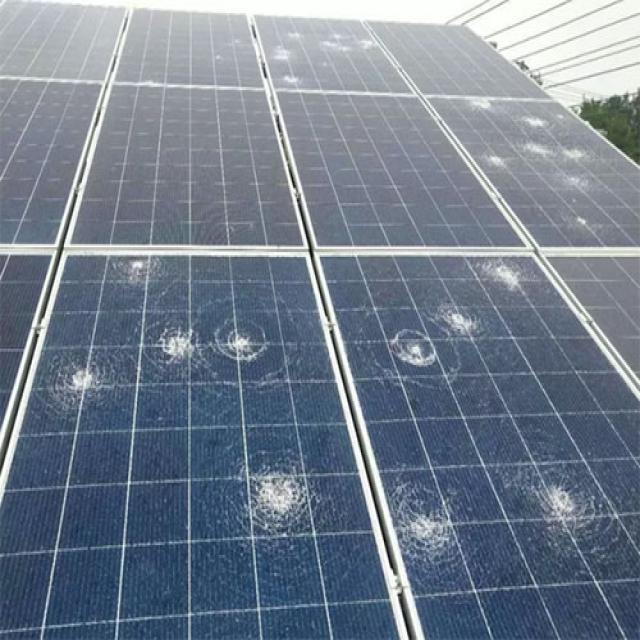physical damage: (41, 244, 309, 416), (356, 257, 581, 381), (397, 469, 616, 585), (439, 99, 628, 194), (246, 7, 411, 91), (213, 465, 345, 558)
